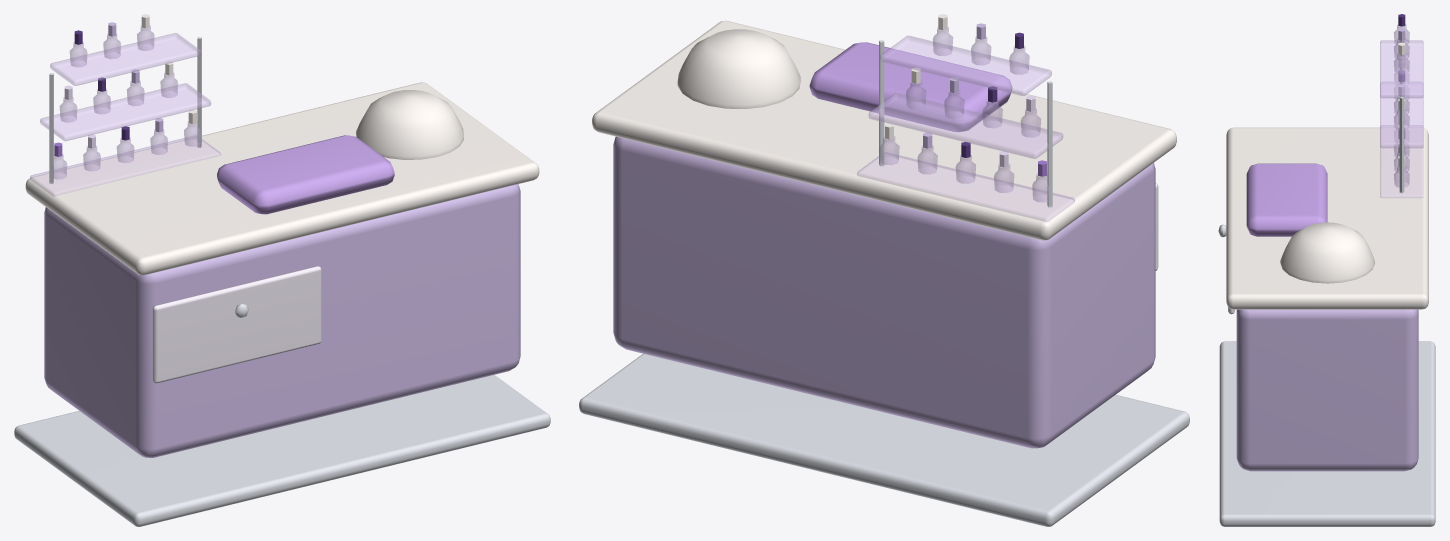
File: manicure_table.glb
3 renders of one model, left to right at view 1: azimuth 30°, elevation 25°; view 2: azimuth 150°, elevation 25°; view 3: azimuth 270°, elevation 25°, orthographic. The views are drawn at different scales.
Visible parts, largest first — view 1: manicure_table; view 2: manicure_table; view 3: manicure_table.
Part boxes in pixels (x1,y1,x2,y2): manicure_table: [14, 14, 550, 526]; manicure_table: [579, 14, 1189, 526]; manicure_table: [1218, 14, 1435, 526].
Size of the model in its own units: 1.24 by 1.16 by 0.644.
